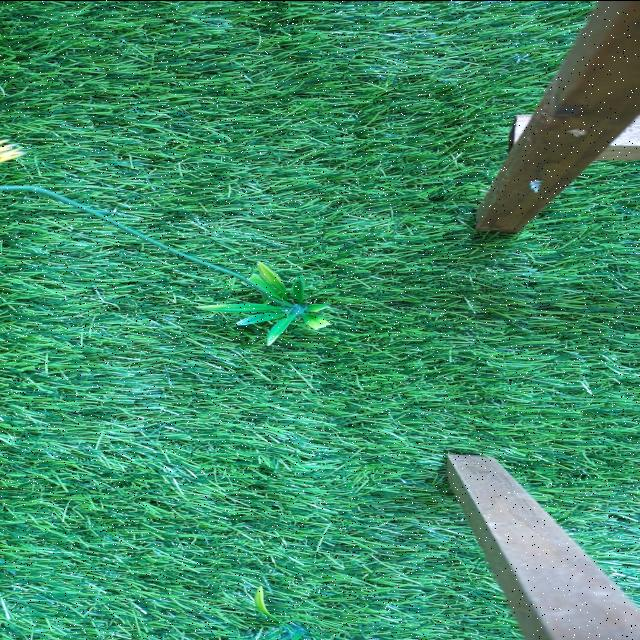base: (193, 260, 338, 346), (240, 590, 302, 638)
flower: (0, 140, 25, 168)
